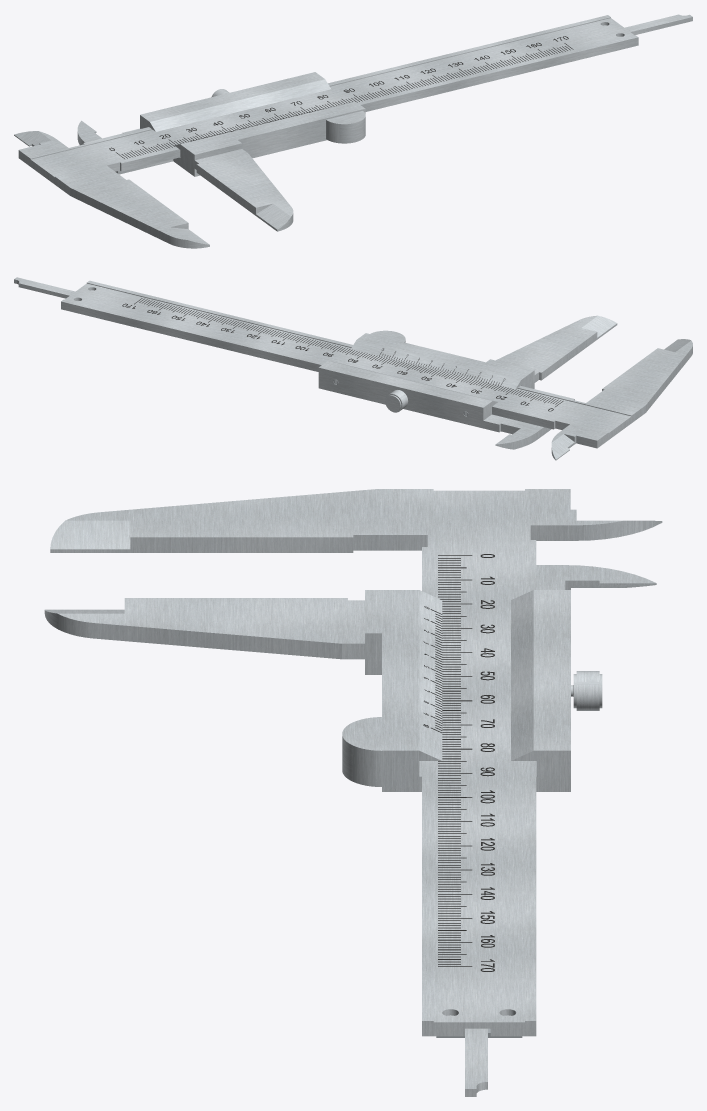
Rendered from calipers.glb.
3 renders of one model, top to bottom at view 1: azimuth 30°, elevation 25°; view 2: azimuth 150°, elevation 25°; view 3: azimuth 270°, elevation 25°, orthographic. The views are drawn at different scales.
Visible parts, largest first — view 1: Object_11, Object_3; view 2: Object_11, Object_3, Object_14; view 3: Object_11, Object_3, Object_14.
Boxes of the visible parts, x1,y1,x2,y2 form: Object_11: (14, 14, 692, 248); Object_3: (116, 43, 573, 158); Object_11: (14, 277, 692, 460); Object_3: (134, 298, 563, 406); Object_14: (385, 390, 408, 412); Object_11: (44, 489, 662, 1096); Object_3: (430, 555, 472, 966); Object_14: (571, 671, 602, 710).
Bounding box in the file's own units: 0.245 × 0.008 × 0.108.
3 materials, 1 textured.
